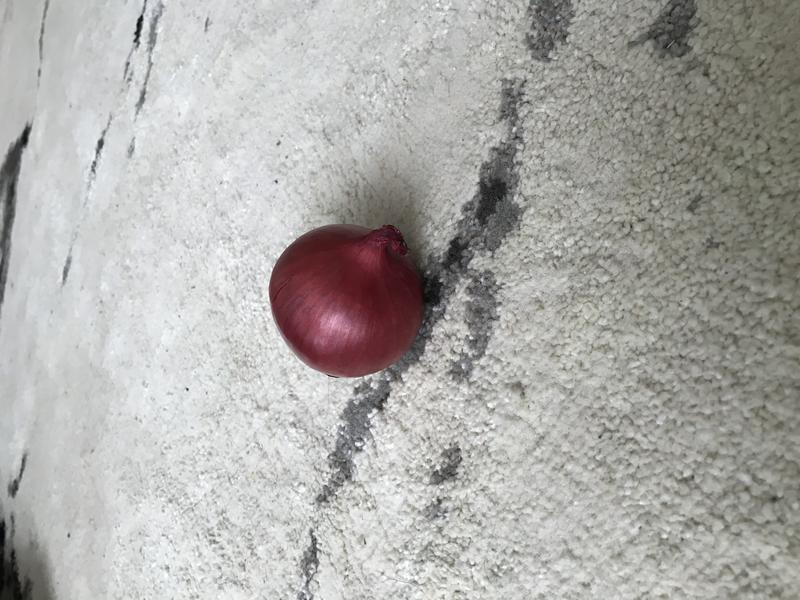purple_onion: (263, 216, 435, 384)
